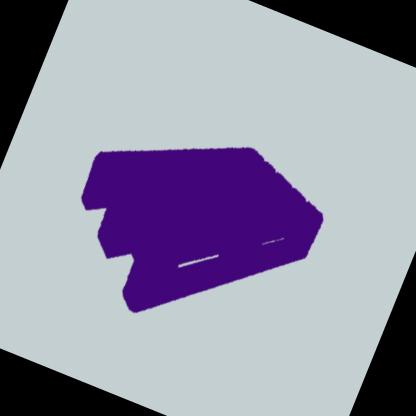BoxFace: (75, 143, 328, 322)
